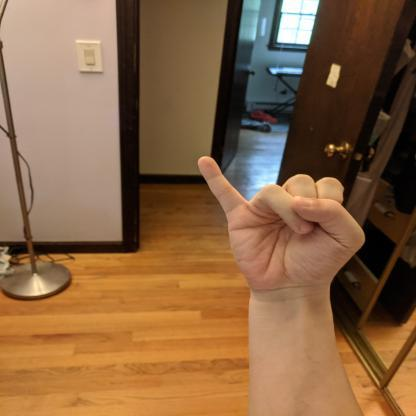I: (192, 152, 368, 294)
